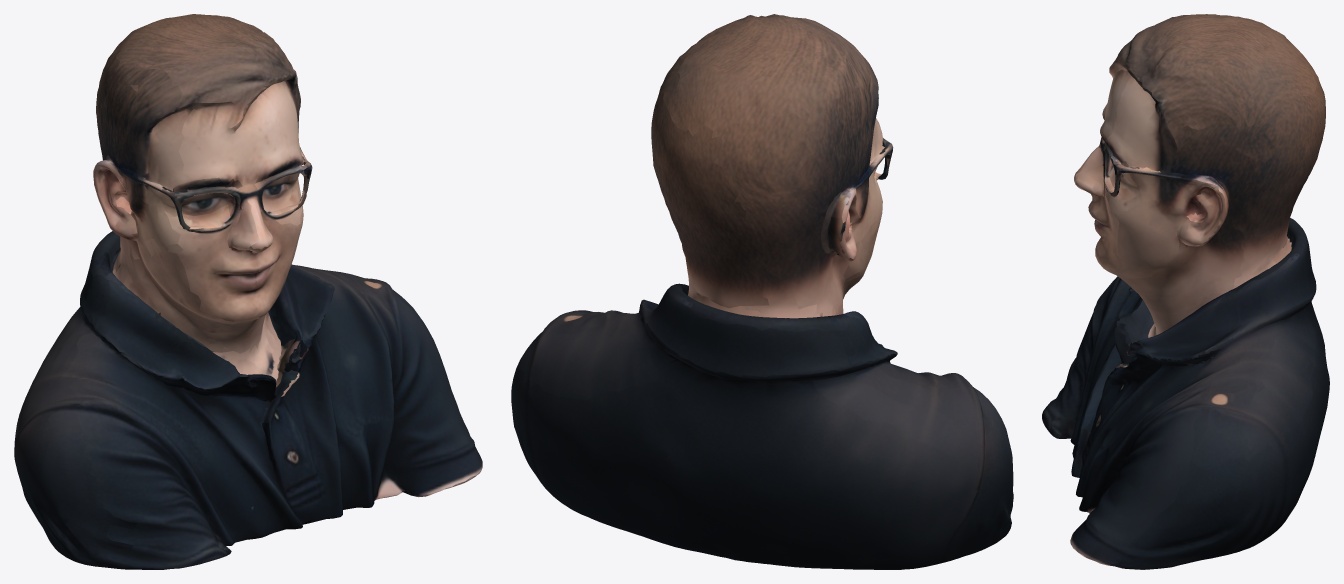
Rendered from portrait-mesh.glb.
3 renders of one model, left to right at view 1: azimuth 30°, elevation 25°; view 2: azimuth 150°, elevation 25°; view 3: azimuth 270°, elevation 25°, orthographic. The views are drawn at different scales.
Parts seen in each view (by area): view 1: tmpbods_63x.ply; view 2: tmpbods_63x.ply; view 3: tmpbods_63x.ply.
Boxes of the visible parts, x1,y1,x2,y2 form: tmpbods_63x.ply: (14,14,482,569); tmpbods_63x.ply: (511,14,1013,569); tmpbods_63x.ply: (1042,14,1329,569).
Bounding box in the file's own units: 1.92 × 1.96 × 1.17.
1 material, 1 textured.
